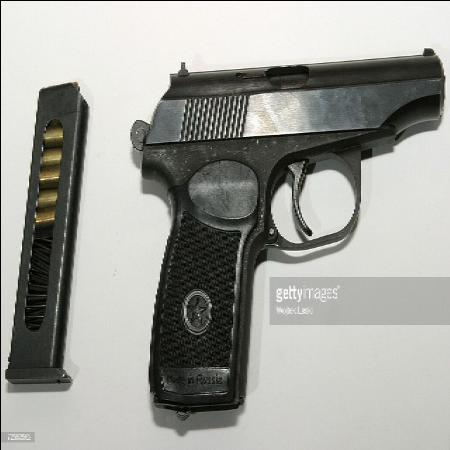Pistol: (128, 47, 448, 411)
